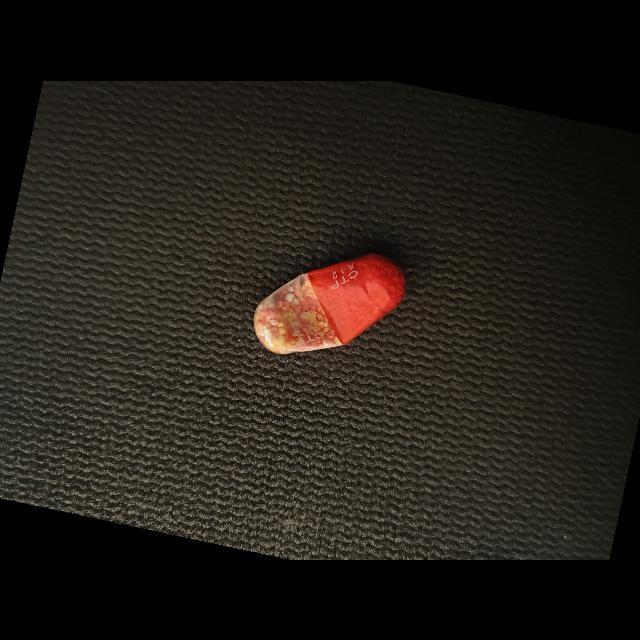Defective Capsule: (253, 253, 406, 354)
